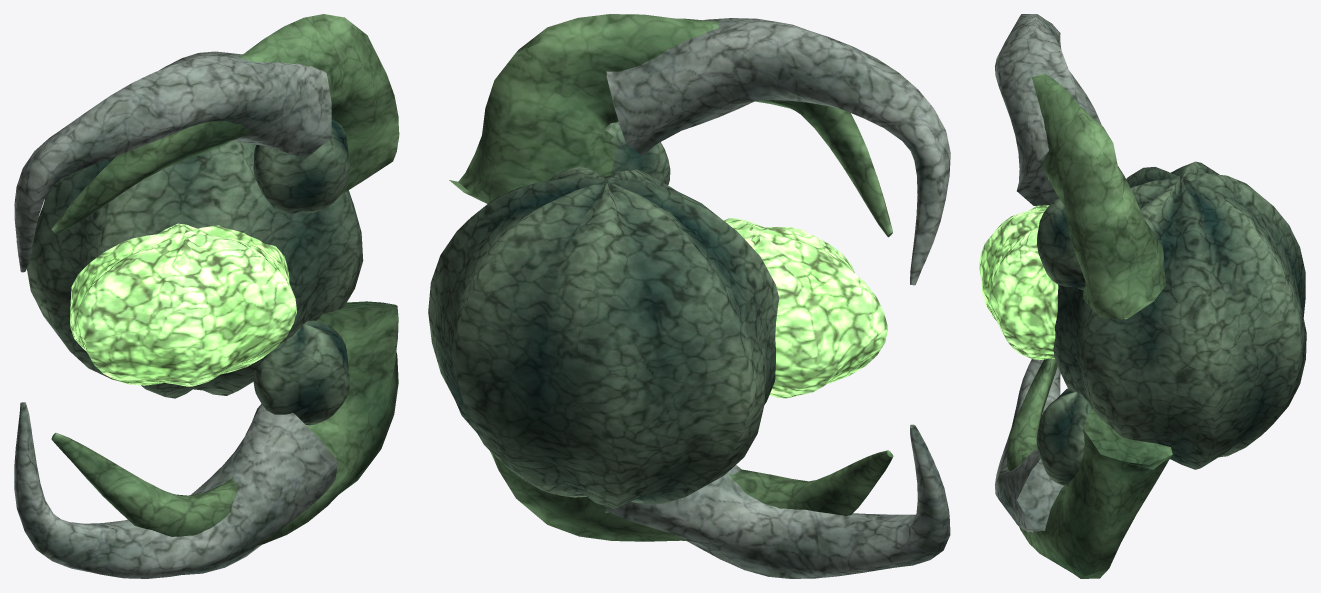
File: double-lock.glb
The picture shows the model from 3 angles, left to right: view 1: azimuth 30°, elevation 25°; view 2: azimuth 150°, elevation 25°; view 3: azimuth 270°, elevation 25°; orthographic projection. The views are drawn at different scales.
Parts seen in each view (by area): view 1: double-lock_rib, double-lock_carapace, double-lock_membrane, double-lock_signal; view 2: double-lock_carapace, double-lock_rib, double-lock_membrane, double-lock_signal; view 3: double-lock_carapace, double-lock_membrane, double-lock_rib, double-lock_signal.
Boxes of the visible parts, x1,y1,x2,y2 form: double-lock_rib: (14,51,337,578); double-lock_carapace: (27,119,363,425); double-lock_membrane: (51,14,399,545); double-lock_signal: (70,223,296,386); double-lock_carapace: (428,121,779,509); double-lock_rib: (605,18,950,578); double-lock_membrane: (449,14,893,541); double-lock_signal: (724,218,888,398); double-lock_carapace: (1037,161,1306,485); double-lock_membrane: (1006,73,1172,578); double-lock_rib: (995,14,1101,532); double-lock_signal: (979,205,1058,360).
Bounding box in the file's own units: 1.48 × 1.7 × 1.05.
Materials: 4 (4 with a texture image).
